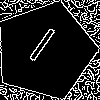I: (20, 25, 59, 71)
